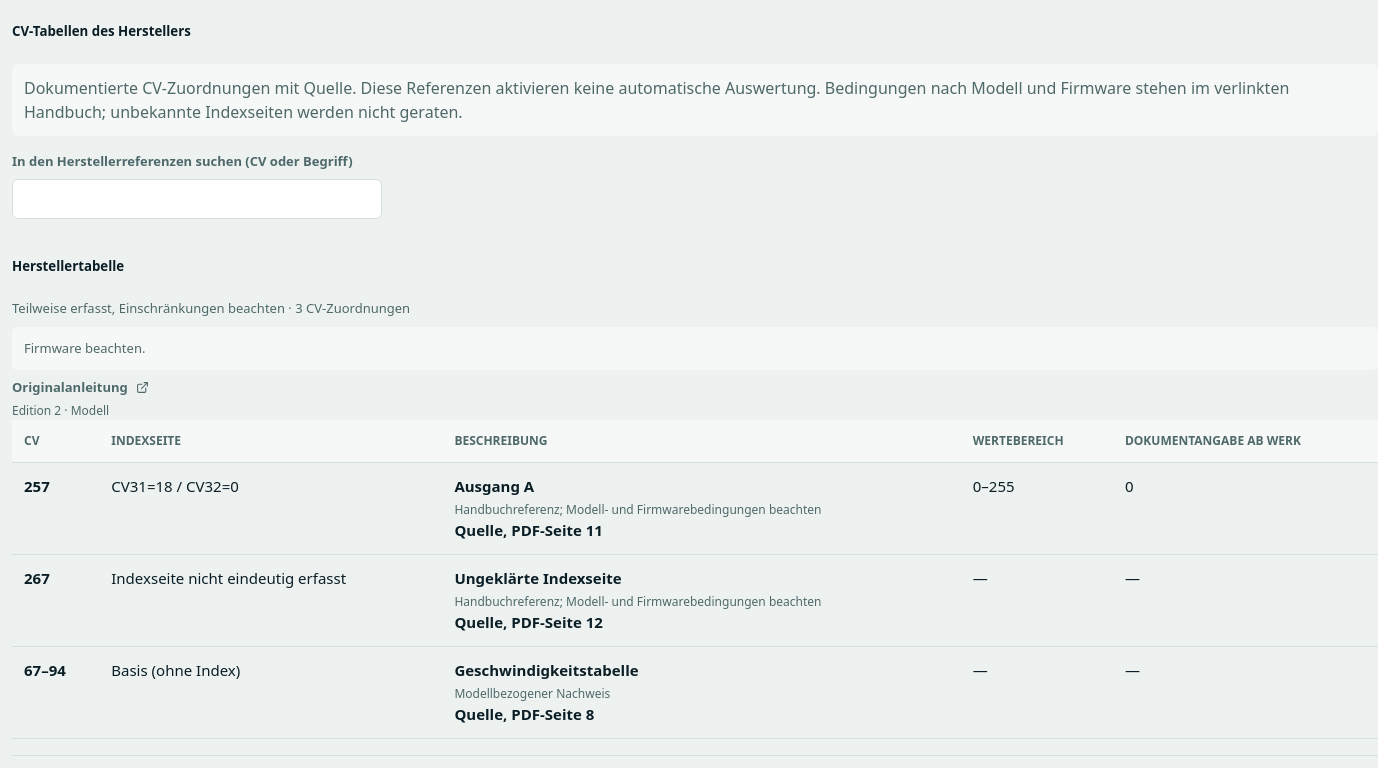
Scenario: filters CV ranges while keeping exact index pages, source and unknown applicability visible
This screenshot has width=1378, height=768.
Expected: the heading "Herstellertabelle" is shown, [12,257,124,275]
Expected: the text "CV31=18 / CV32=0" is shown, [99,462,442,554]
Step 1. Type "CV80" into the search field → (197, 199), box [12,179,382,219]
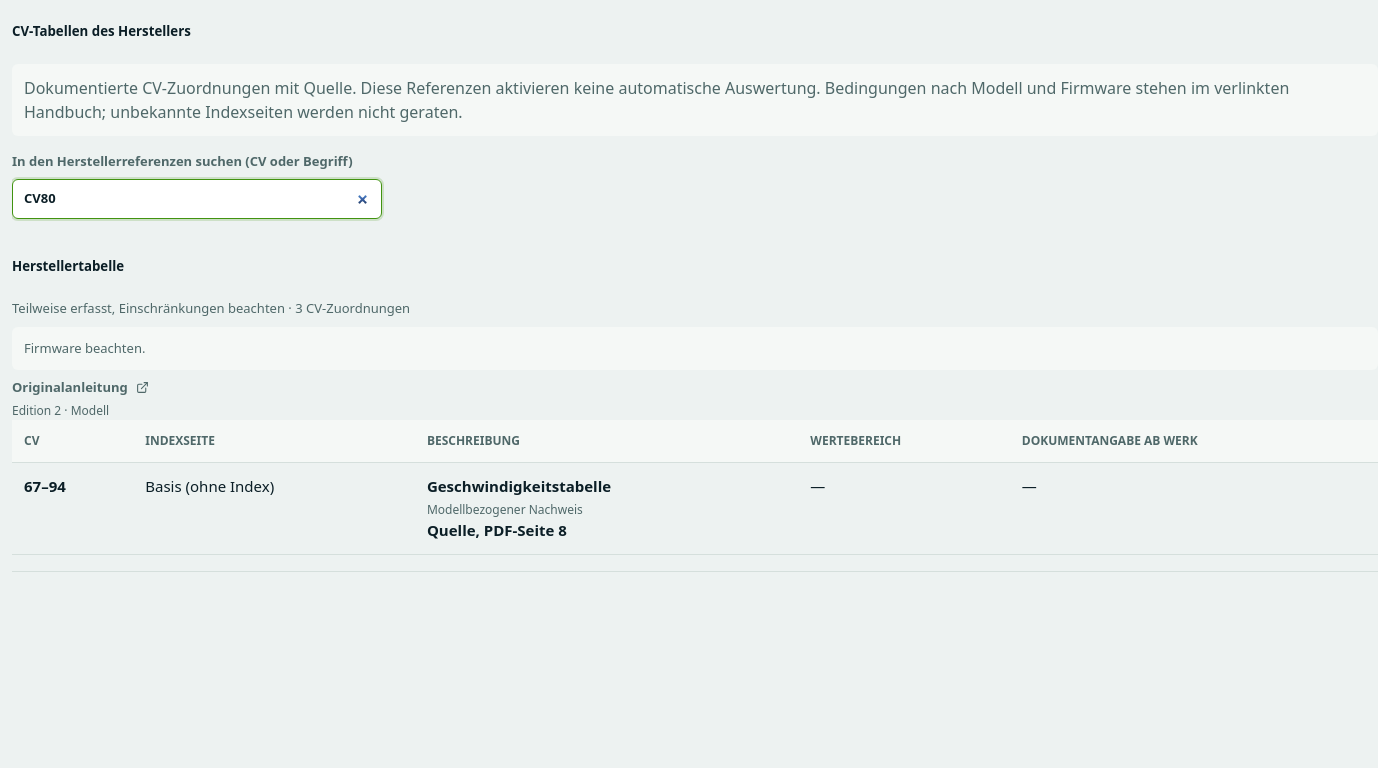
Expected: the text "Geschwindigkeitstabelle" is shown, [427,476,611,496]
Expected: the text "Ausgang A" is gone
